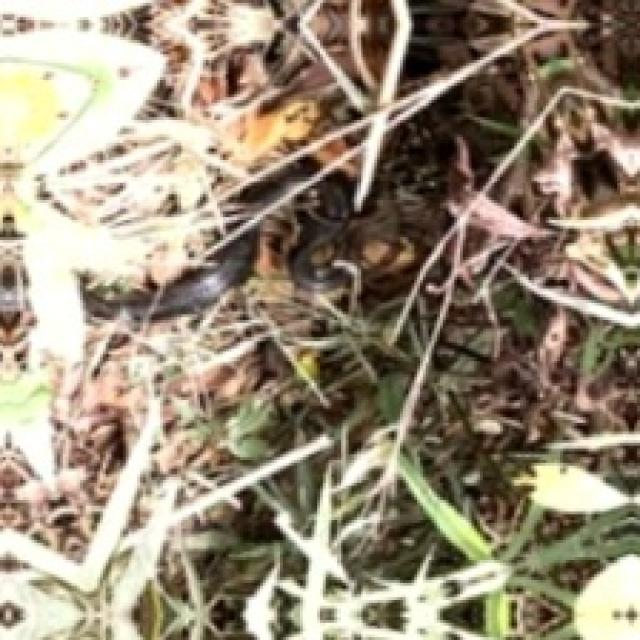king cobra: (82, 175, 351, 319), (0, 281, 18, 313)
